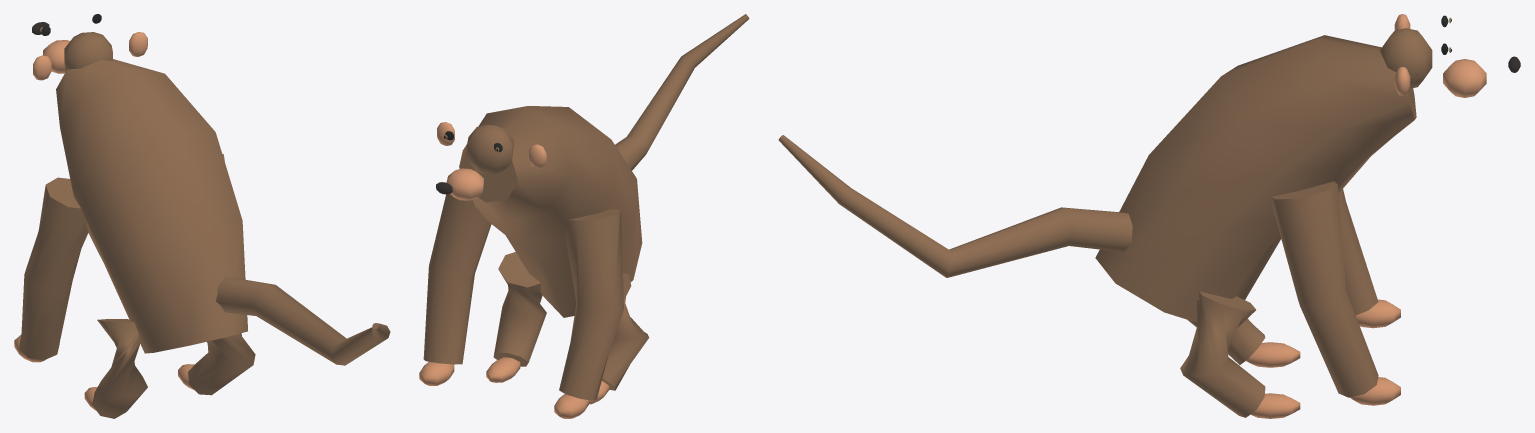
File: monkey_mobile.glb
3 views of the same model, side by side, from view 1: azimuth 30°, elevation 25°; view 2: azimuth 150°, elevation 25°; view 3: azimuth 270°, elevation 25° (orthographic). The views are drawn at different scales.
Parts seen in each view (by area): view 1: MonkeyOrganicBody, Arm_L, Tail, Leg_L, Leg_R, Head, Muzzle, EarDetail, EarDetail2; view 2: MonkeyOrganicBody, Arm_L, Arm_R, Leg_R, Tail, Leg_L, Head, Muzzle, PawHand_R, PawFoot_R, PawHand_L, EarDetail; view 3: MonkeyOrganicBody, Arm_R, Tail, Leg_R, Arm_L, Head, Muzzle, Leg_L, PawFoot_L, PawFoot_R, PawHand_L, PawHand_R.
Boxes of the visible parts, x1,y1,x2,y2 form: MonkeyOrganicBody: (56, 59, 247, 353); Arm_L: (19, 177, 88, 360); Tail: (216, 277, 390, 365); Leg_L: (92, 319, 147, 418); Leg_R: (188, 333, 255, 395); Head: (64, 32, 112, 71); Muzzle: (43, 40, 69, 73); EarDetail: (33, 55, 51, 80); EarDetail2: (129, 32, 147, 56); MonkeyOrganicBody: (459, 106, 642, 317); Arm_L: (559, 209, 623, 400); Arm_R: (423, 194, 491, 364); Leg_R: (493, 252, 546, 366); Tail: (615, 14, 749, 170); Leg_L: (602, 273, 649, 390); Head: (467, 124, 513, 174); Muzzle: (446, 168, 483, 200); PawHand_R: (419, 361, 454, 385); PawFoot_R: (486, 357, 520, 382); PawHand_L: (554, 394, 588, 418); EarDetail: (528, 144, 546, 168); MonkeyOrganicBody: (1095, 35, 1416, 322); Arm_R: (1271, 181, 1378, 397); Tail: (778, 135, 1132, 277); Leg_R: (1180, 291, 1265, 417); Arm_L: (1338, 189, 1378, 315); Head: (1380, 28, 1432, 88); Muzzle: (1443, 59, 1486, 97); Leg_L: (1188, 318, 1265, 364); PawFoot_L: (1246, 342, 1300, 367); PawFoot_R: (1251, 393, 1300, 418); PawHand_L: (1356, 299, 1400, 328); PawHand_R: (1349, 377, 1400, 405).
Bounding box in the file's own units: 1.41 × 2.17 × 4.05.
